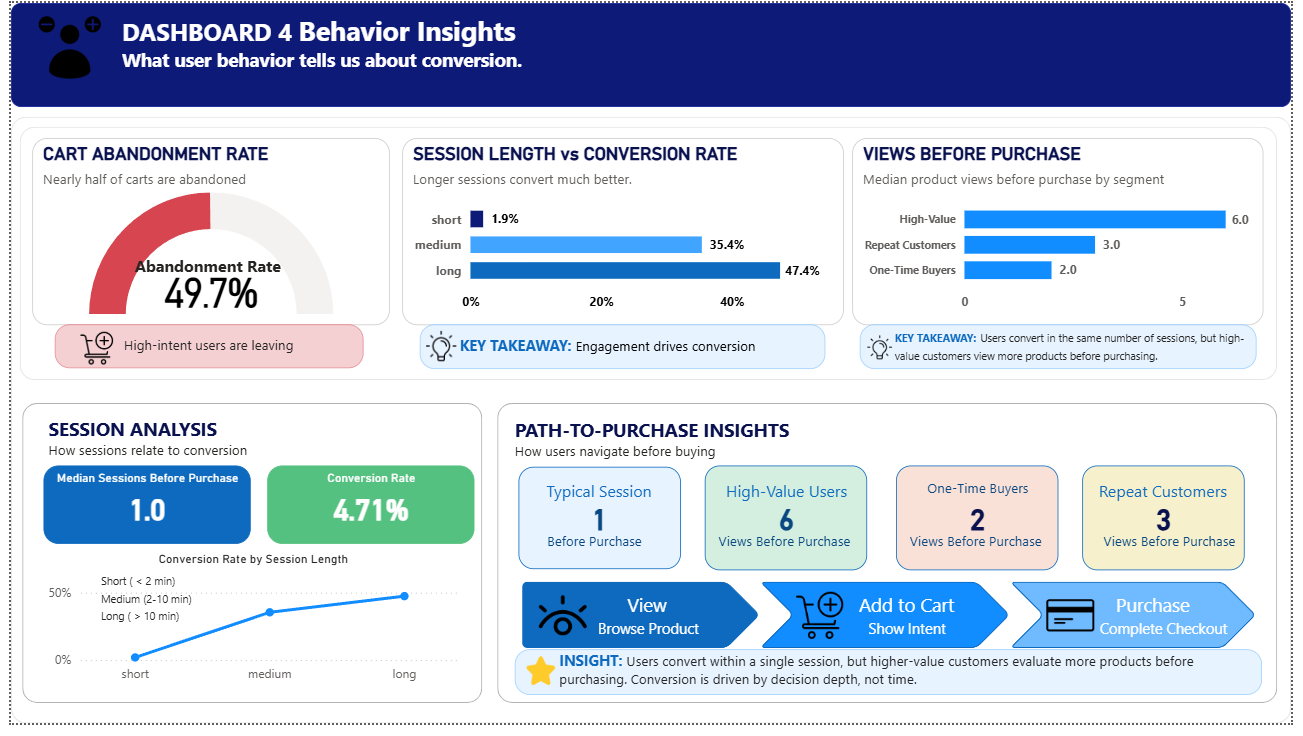

What the dashboard file says about the page in this screenshot:
{"tool":"powerbi","page":{"name":"Dashboard 4","canvas":[1280,720],"ordinal":3},"visuals":[{"type":"shape","box":[11.4,388.6,1257.1,321.4],"z":0},{"type":"shape","box":[0,113.3,1280,606.7],"z":1000},{"type":"textbox","box":[0,0,1280,104],"z":2000},{"type":"shape","box":[9.3,124,1257.3,253.3],"z":3000},{"type":"image","box":[8.8,11.2,100,66.2],"z":4000},{"type":"gauge","title":"CART ABANDONMENT RATE","fields":{"Y":["VW_SESSION_BEHAVIOR.Cart Abandonment Rate(session table)"],"MinValue":["dim_customer.min"],"MaxValue":["dim_customer.max"]},"box":[21.2,135,357.5,187.5],"z":5000},{"type":"textbox","box":[118.3,246.3,164.2,40.3],"z":6000},{"type":"clusteredBarChart","title":"SESSION LENGTH vs CONVERSION RATE","fields":{"Category":["VW_SESSION_BEHAVIOR.SESSION_LENGTH_BUCKET"],"Y":["VW_SESSION_BEHAVIOR.Session Conversion Rate"]},"box":[391.2,135,441.2,187.5],"z":7000},{"type":"clusteredBarChart","title":"VIEWS BEFORE PURCHASE","fields":{"Y":["PATH_TO_PURCHASE_SUMMARY.Median Views Before Purchase"],"Category":["PATH_TO_PURCHASE_SUMMARY.CUSTOMER_SEGMENT"]},"box":[841.2,135,411.2,187.5],"z":8000},{"type":"textbox","box":[44.3,321.4,308.6,44.3],"z":9000},{"type":"image","box":[52.9,328.6,65.7,32.9],"z":10000},{"type":"textbox","box":[408.3,320.8,405.8,45],"z":11000},{"type":"textbox","box":[849.2,320.8,396.7,45],"z":12000},{"type":"image","box":[415,326.7,30,33.3],"z":13000},{"type":"image","box":[856.4,327.3,24.5,33.6],"z":14000},{"type":"shape","box":[11.4,400,460,300],"z":15000},{"type":"card","title":"Median Sessions Before Purchase","fields":{"Values":["PATH_TO_PURCHASE_SUMMARY.Median Sessions Before Purchase"]},"box":[32,463,207,78],"z":16000},{"type":"textbox","box":[32,413,224,50],"z":17000},{"type":"card","title":"Conversion Rate","fields":{"Values":["dim_customer.Conversion Rate"]},"box":[256,463,207,78],"z":18000},{"type":"lineChart","title":"Conversion Rate by Session Length","fields":{"Category":["VW_SESSION_BEHAVIOR.SESSION_LENGTH_BUCKET"],"Y":["VW_SESSION_BEHAVIOR.Session Conversion Rate"]},"box":[32,549,420,140],"z":19000},{"type":"textbox","box":[85,567,102,61],"z":20000},{"type":"shape","box":[485.7,400,780,300],"z":21000},{"type":"textbox","box":[498.8,413.8,370,62.5],"z":22000},{"type":"card","title":"Typical Sessions","fields":{"Values":["PATH_TO_PURCHASE_SUMMARY.Median Sessions Before Purchase"]},"box":[507.5,463.8,162.5,102.5],"z":23000},{"type":"card","title":"Median Sessions Before Purchase","fields":{"Values":["PATH_TO_PURCHASE_SUMMARY.Median Views Before Purchase"]},"box":[693.8,462.5,162.5,105],"z":24000},{"type":"card","title":"Median Sessions Before Purchase","fields":{"Values":["PATH_TO_PURCHASE_SUMMARY.Median Views Before Purchase"]},"box":[885,462.5,162.5,105],"z":25000},{"type":"card","title":"Median Sessions Before Purchase","fields":{"Values":["PATH_TO_PURCHASE_SUMMARY.Median Views Before Purchase"]},"box":[1071.2,462.5,162.5,105],"z":26000},{"type":"textbox","box":[531.2,523.8,113.8,32.5],"z":27000},{"type":"textbox","box":[515,471.2,146.2,43.8],"z":28000},{"type":"textbox","box":[702.5,471.2,146.2,43.8],"z":29000},{"type":"textbox","box":[893.8,471.2,146.2,32.5],"z":30000},{"type":"textbox","box":[1087.5,523.8,146.2,32.5],"z":31000},{"type":"textbox","box":[893.8,523.8,146.2,32.5],"z":32000},{"type":"textbox","box":[1078.8,471.2,146.2,43.8],"z":33000},{"type":"textbox","box":[702.5,523.8,146.2,32.5],"z":34000},{"type":"shape","box":[511.2,578.8,237.5,66.2],"z":35000},{"type":"shape","box":[748.8,578.8,250,66.2],"z":36000},{"type":"shape","box":[998.8,578.8,246.2,66.2],"z":37000},{"type":"image","box":[515,588.8,73.8,47.5],"z":38000},{"type":"image","box":[776.2,588.8,65,47.5],"z":39000},{"type":"image","box":[1022.5,588.8,73.8,47.5],"z":40000},{"type":"textbox","box":[611.2,583.8,72.5,35],"z":41000},{"type":"textbox","box":[1087.5,583.8,108.8,35],"z":42000},{"type":"textbox","box":[832.5,583.8,126.2,35],"z":43000},{"type":"textbox","box":[560,610,155,35],"z":44000},{"type":"textbox","box":[818.8,610,155,35],"z":45000},{"type":"textbox","box":[1083.8,610,155,35],"z":46000},{"type":"textbox","box":[504.3,645.7,747.1,45.7],"z":47000},{"type":"image","box":[504.3,651.4,51.4,32.9],"z":48000}]}

Visuals, with their boxes in screenshot pixels (x1, y1, x2, y2), scaled from the page's 1280x720 canvas onto the 1303x736 screenshot:
shape: left=12, top=397, right=1291, bottom=726
shape: left=0, top=116, right=1302, bottom=735
textbox: left=0, top=0, right=1302, bottom=106
shape: left=9, top=127, right=1289, bottom=386
image: left=9, top=11, right=111, bottom=79
"CART ABANDONMENT RATE" gauge: left=22, top=138, right=386, bottom=330
textbox: left=120, top=252, right=288, bottom=293
"SESSION LENGTH vs CONVERSION RATE" clusteredBarChart: left=398, top=138, right=847, bottom=330
"VIEWS BEFORE PURCHASE" clusteredBarChart: left=856, top=138, right=1275, bottom=330
textbox: left=45, top=329, right=359, bottom=374
image: left=54, top=336, right=121, bottom=370
textbox: left=416, top=328, right=829, bottom=374
textbox: left=864, top=328, right=1268, bottom=374
image: left=422, top=334, right=453, bottom=368
image: left=872, top=335, right=897, bottom=369
shape: left=12, top=409, right=480, bottom=716
"Median Sessions Before Purchase" card: left=33, top=473, right=243, bottom=553
textbox: left=33, top=422, right=261, bottom=473
"Conversion Rate" card: left=261, top=473, right=471, bottom=553
"Conversion Rate by Session Length" lineChart: left=33, top=561, right=460, bottom=704
textbox: left=87, top=580, right=190, bottom=642
shape: left=494, top=409, right=1288, bottom=716
textbox: left=508, top=423, right=884, bottom=487
"Typical Sessions" card: left=517, top=474, right=682, bottom=579
"Median Sessions Before Purchase" card: left=706, top=473, right=872, bottom=580
"Median Sessions Before Purchase" card: left=901, top=473, right=1066, bottom=580
"Median Sessions Before Purchase" card: left=1090, top=473, right=1256, bottom=580
textbox: left=541, top=535, right=657, bottom=569
textbox: left=524, top=482, right=673, bottom=526
textbox: left=715, top=482, right=864, bottom=526
textbox: left=910, top=482, right=1059, bottom=515
textbox: left=1107, top=535, right=1256, bottom=569
textbox: left=910, top=535, right=1059, bottom=569
textbox: left=1098, top=482, right=1247, bottom=526
textbox: left=715, top=535, right=864, bottom=569
shape: left=520, top=592, right=762, bottom=659
shape: left=762, top=592, right=1017, bottom=659
shape: left=1017, top=592, right=1267, bottom=659
image: left=524, top=602, right=599, bottom=650
image: left=790, top=602, right=856, bottom=650
image: left=1041, top=602, right=1116, bottom=650
textbox: left=622, top=597, right=696, bottom=633
textbox: left=1107, top=597, right=1218, bottom=633
textbox: left=847, top=597, right=976, bottom=633
textbox: left=570, top=624, right=728, bottom=659
textbox: left=834, top=624, right=991, bottom=659
textbox: left=1103, top=624, right=1261, bottom=659
textbox: left=513, top=660, right=1274, bottom=707
image: left=513, top=666, right=566, bottom=700
